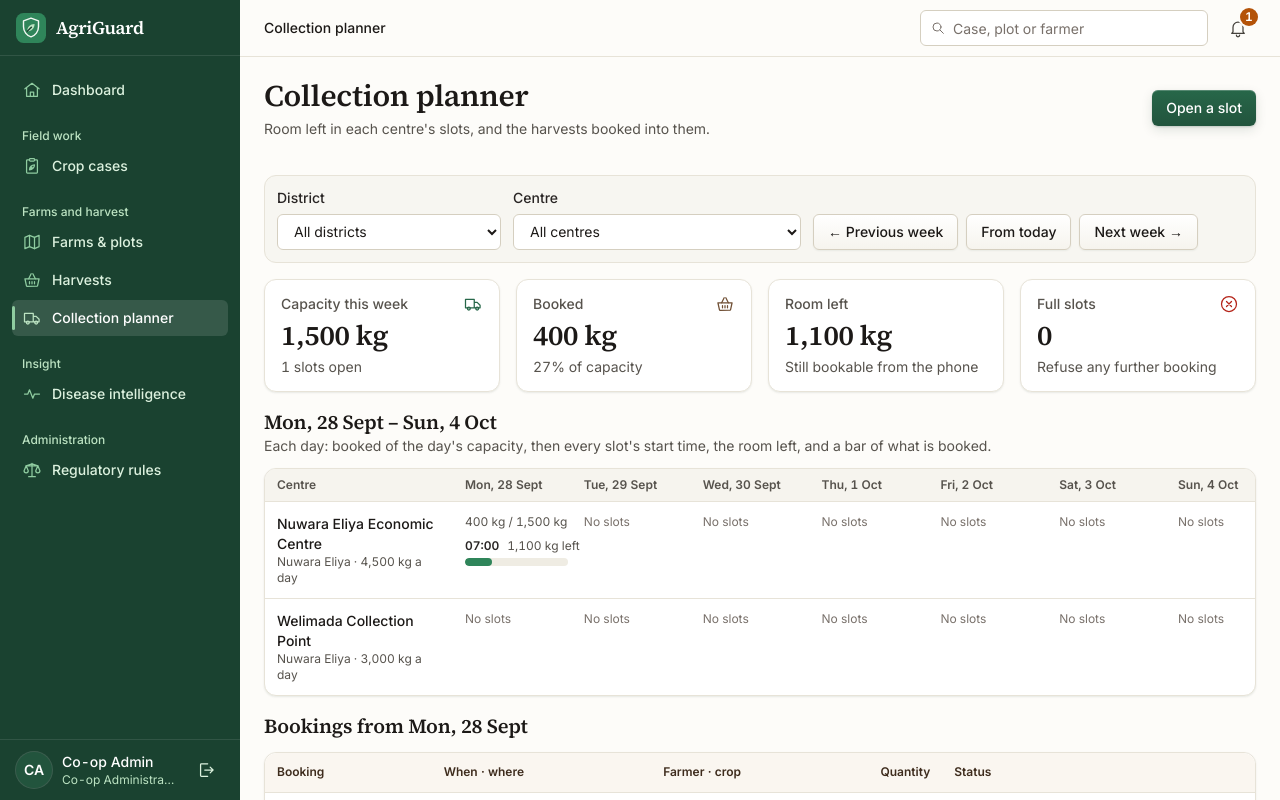
CollectionPlannerPage › puts the centre's daily limit on the capacity field
The width and height of the screenshot is (1280, 800).
Click the button "Open a slot".
click(1204, 108)  # box [1152,90,1256,126]
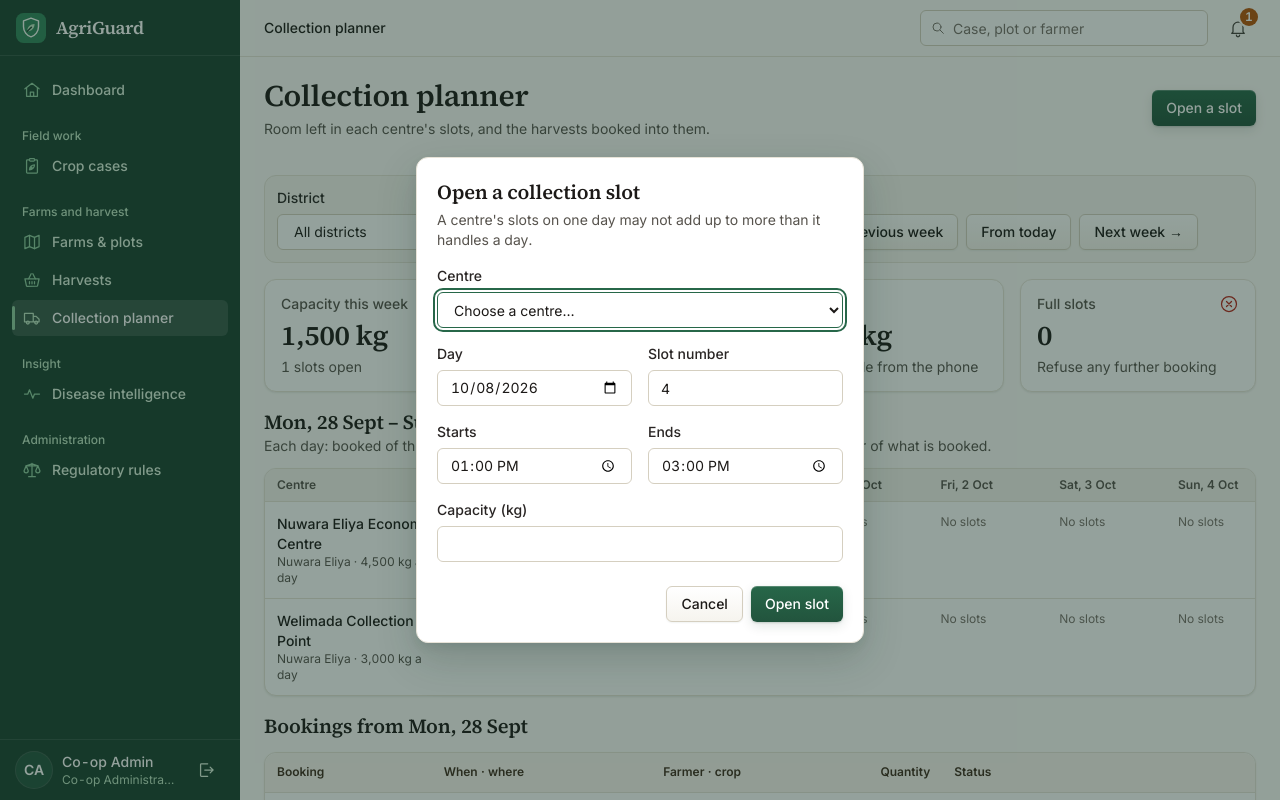
Select "Welimada Collection Point (3,000 kg a day)" in the dropdown labelled "Centre" at (640, 310), box [437,292,843,328]
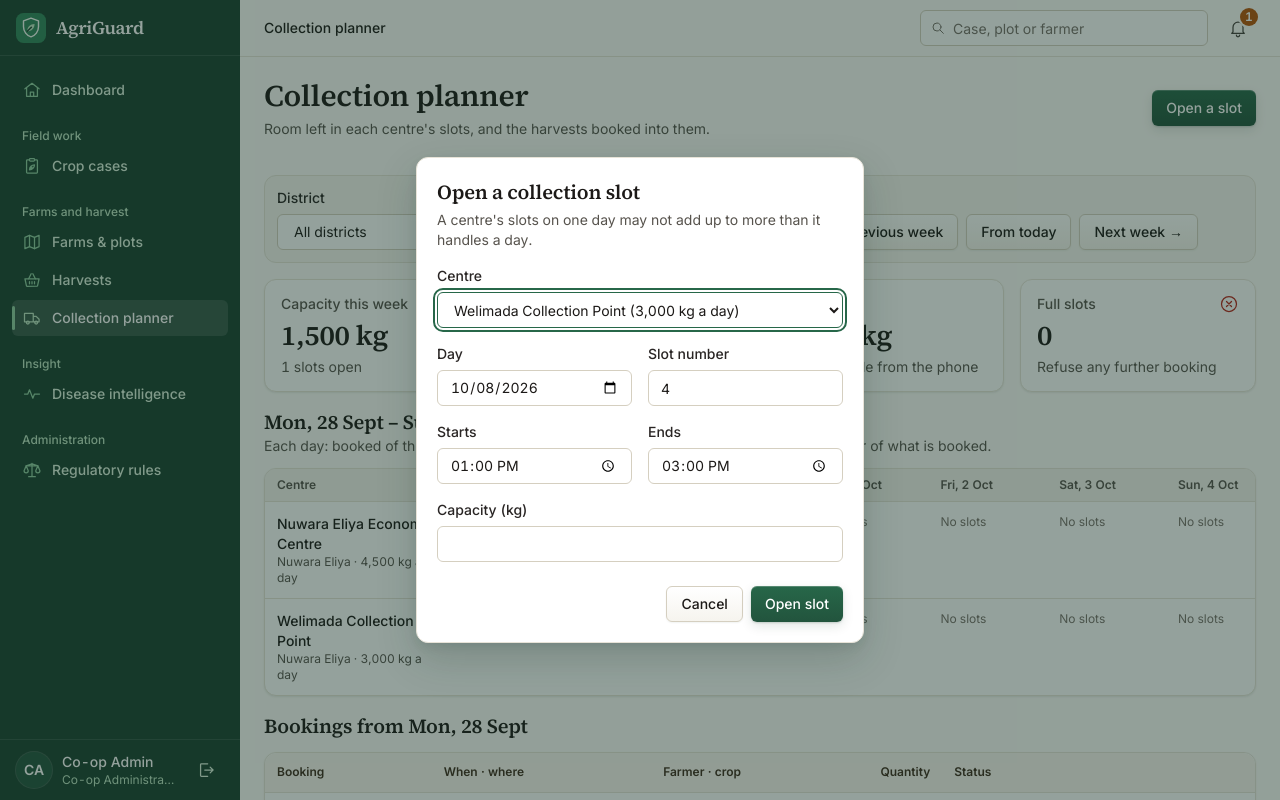
Type "2099-01-05" into the date field labelled "Day".
click(534, 388); type("2099-01-05")  # box [437,370,632,406]
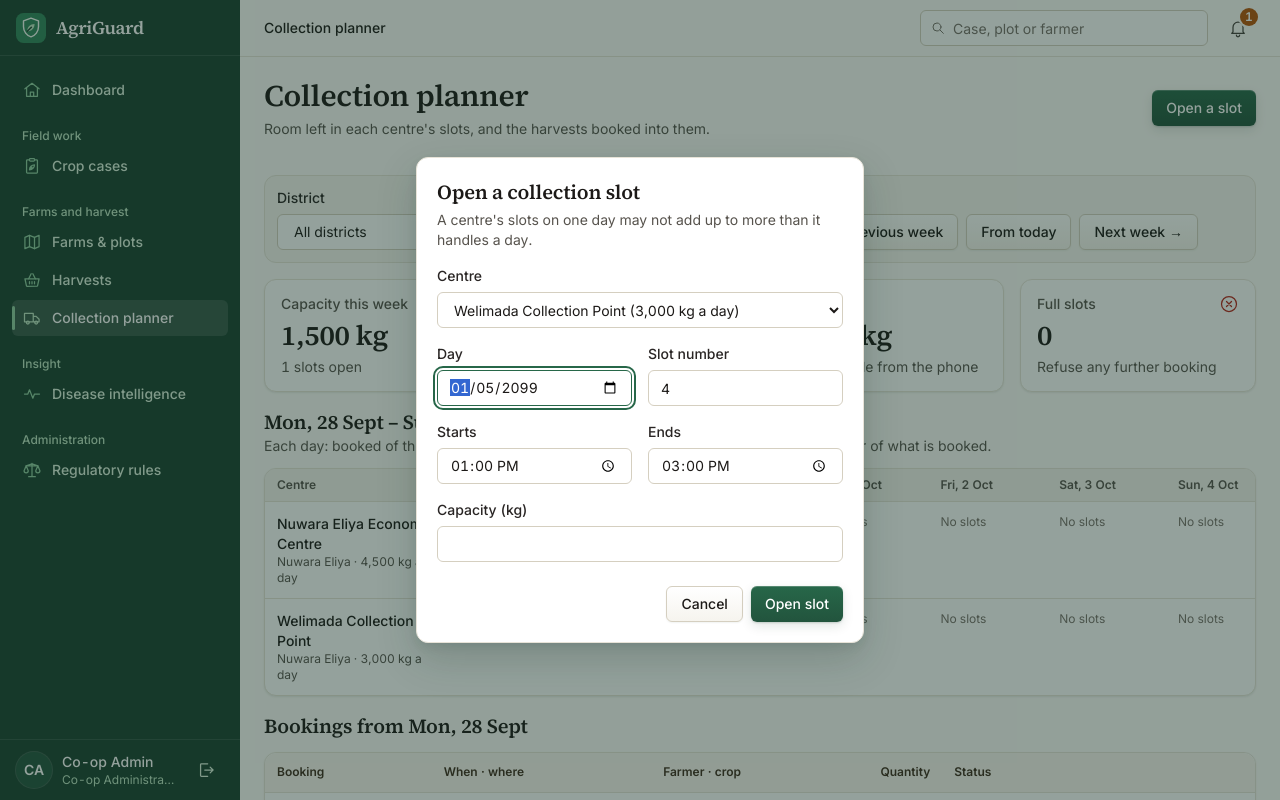
Type "750" into the number field labelled "Capacity (kg)".
click(640, 544); type("750")  # box [437,526,843,562]
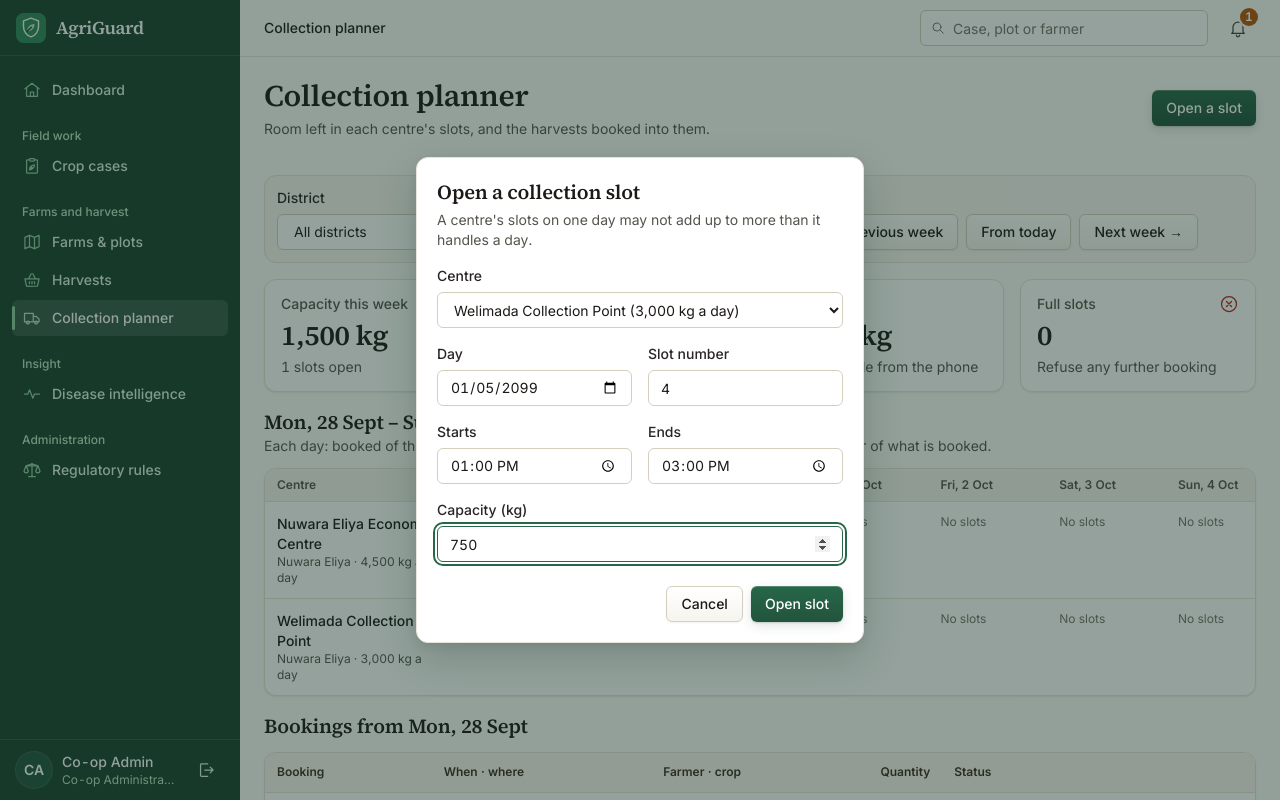
Click the button "Open slot".
click(797, 604)  # box [751,586,843,622]
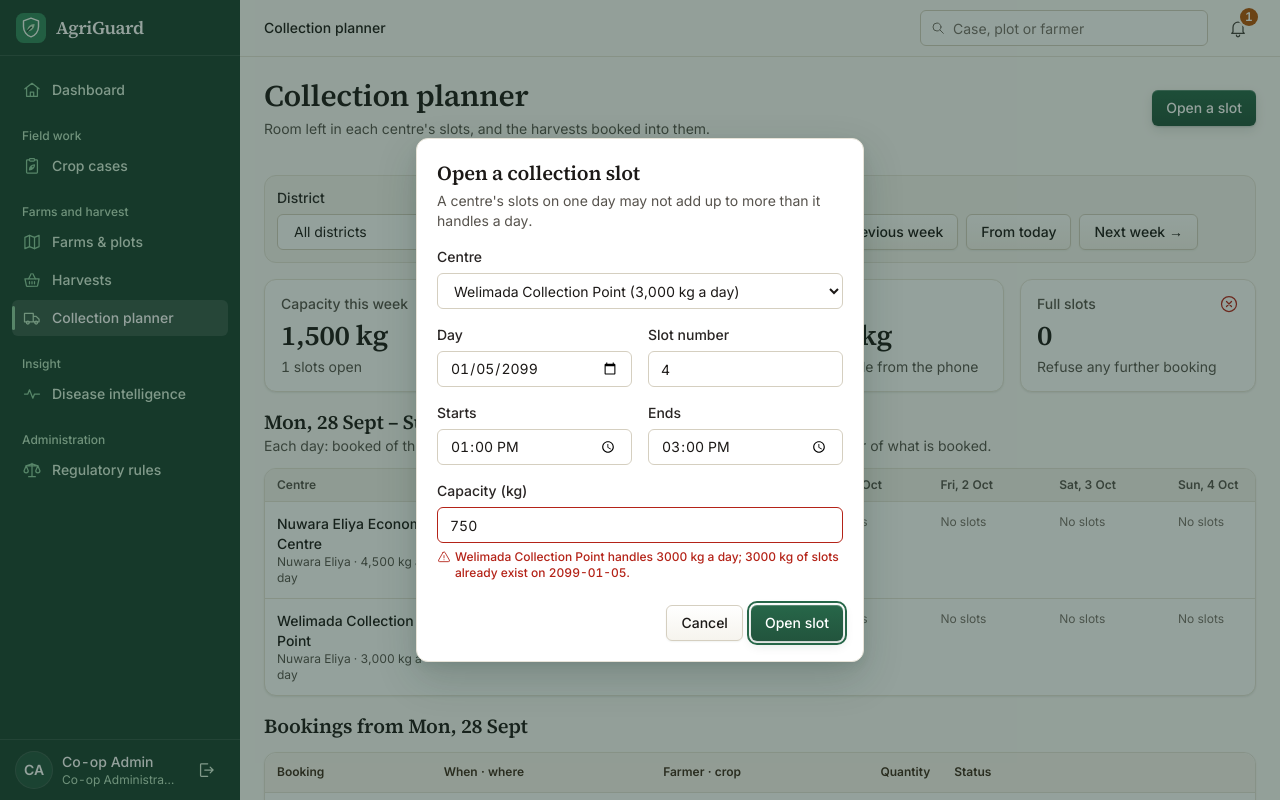
Now the text "handles 3000 kg a day" is shown, box [455,549,839,580]
